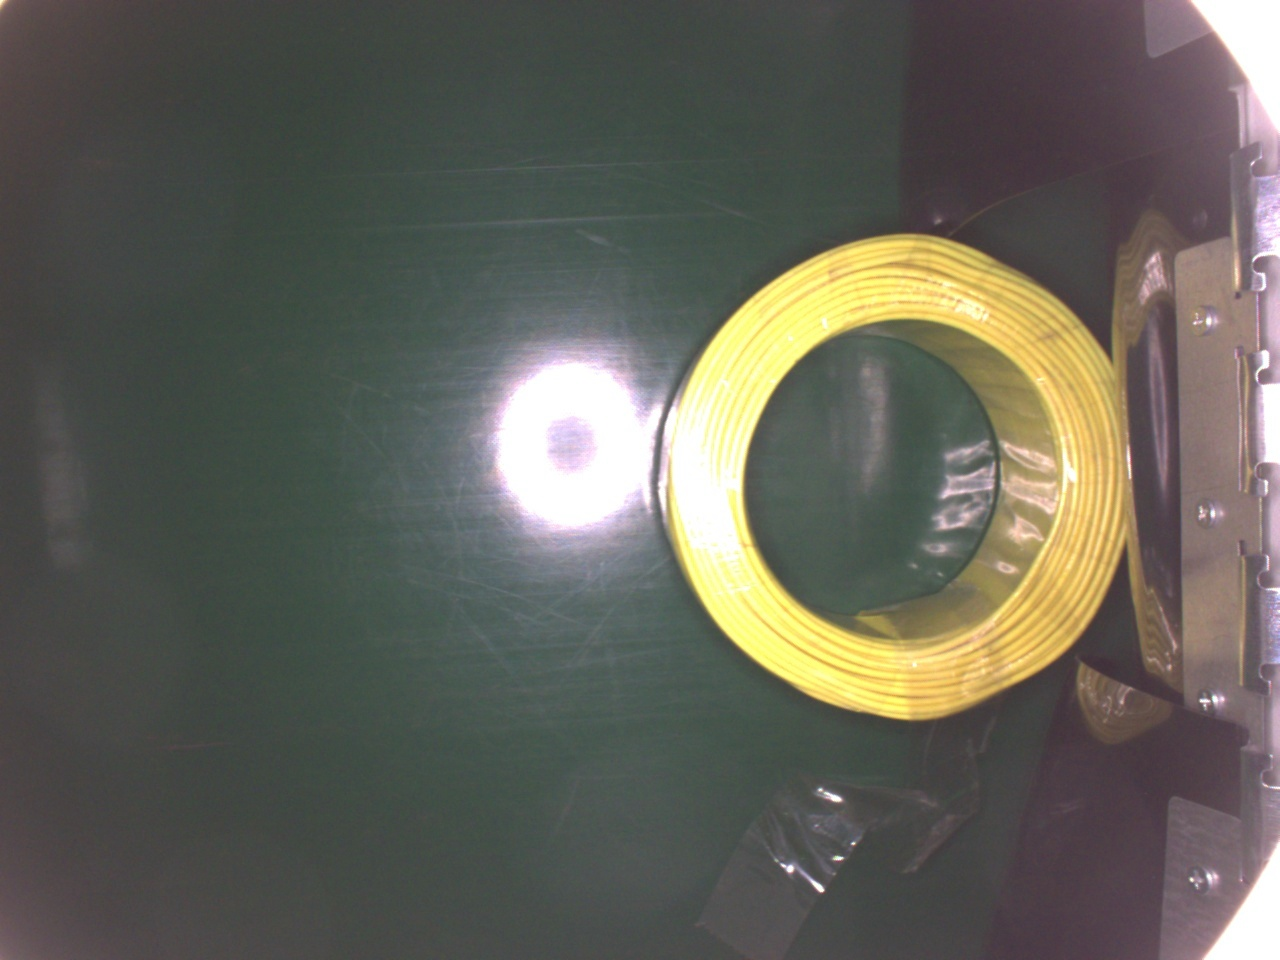yellow: (653, 227, 1128, 720)
